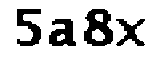5: (12, 4, 44, 51)
8: (83, 4, 115, 49)
a: (47, 16, 79, 51)
x: (115, 15, 149, 49)
